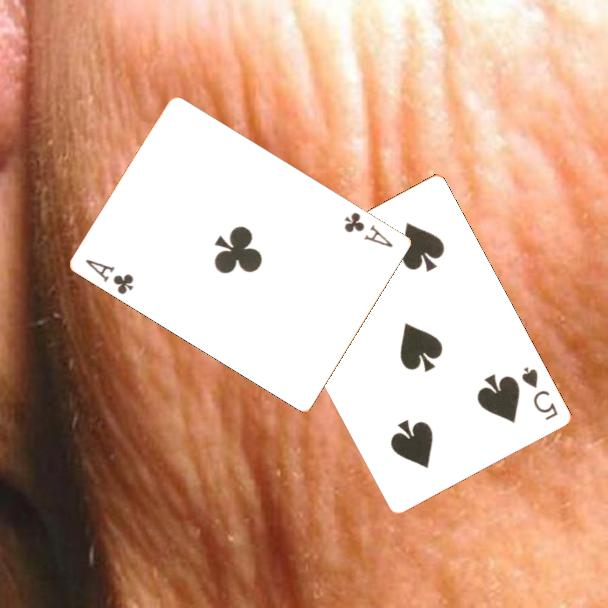c01: (82, 255, 137, 298), (341, 208, 396, 250)
s05: (517, 363, 561, 423)
